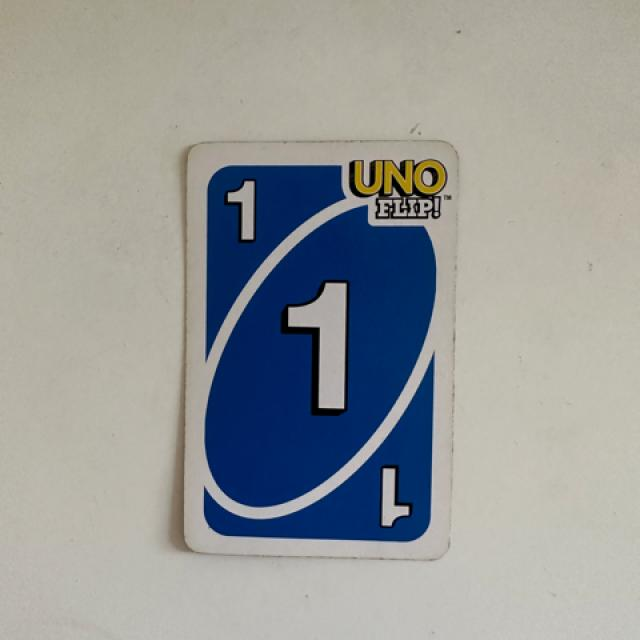lblue-1: (199, 154, 285, 266)
